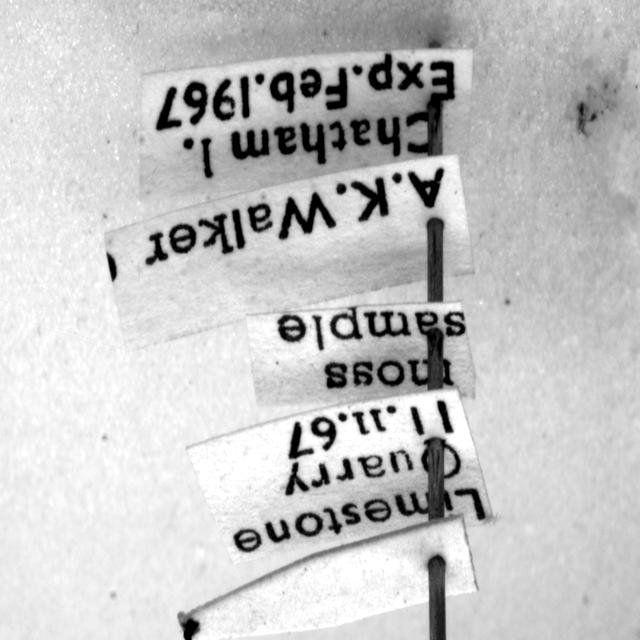typed_label: (105, 156, 474, 349), (188, 390, 491, 562), (140, 47, 472, 197), (246, 302, 475, 405)
